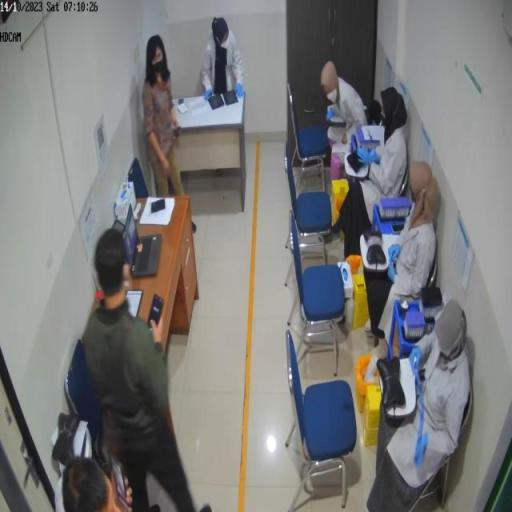person: (82, 227, 199, 509), (367, 301, 472, 508), (363, 163, 442, 342), (331, 88, 410, 260), (143, 36, 199, 233), (389, 163, 442, 304), (63, 456, 122, 512), (322, 62, 369, 131), (211, 18, 245, 98)
